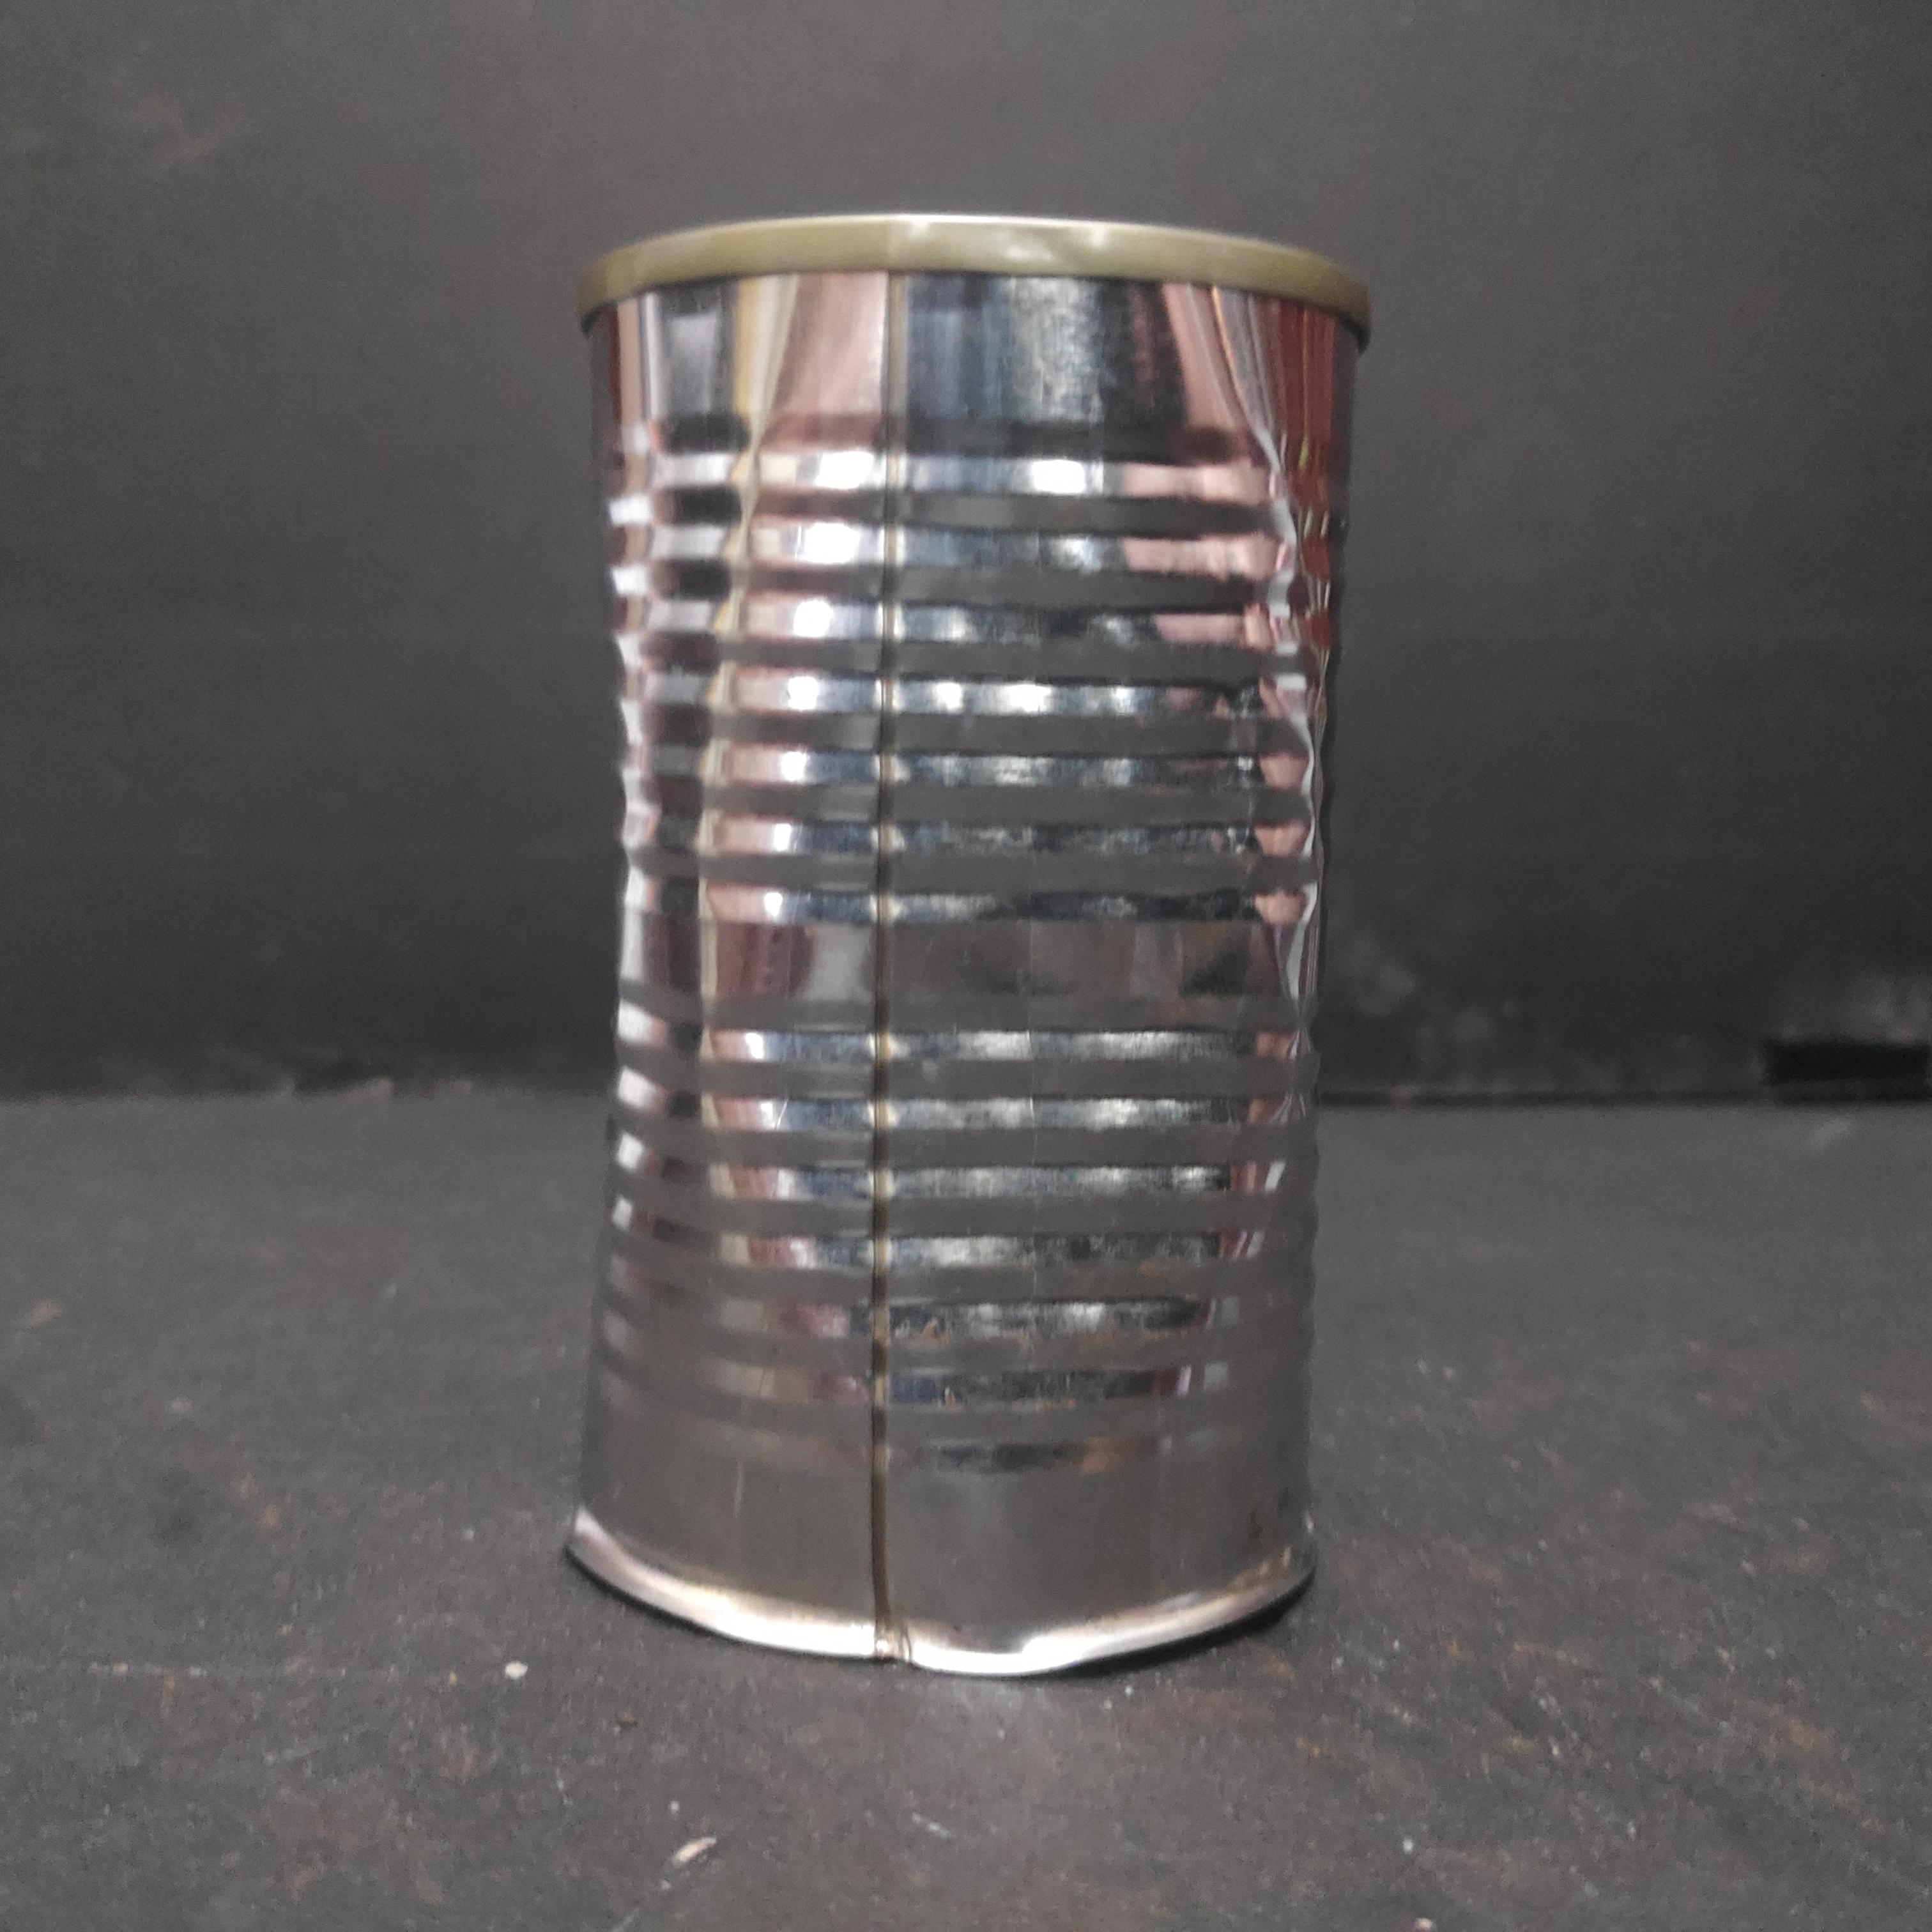Minor Defect: (550, 196, 1387, 1686)
